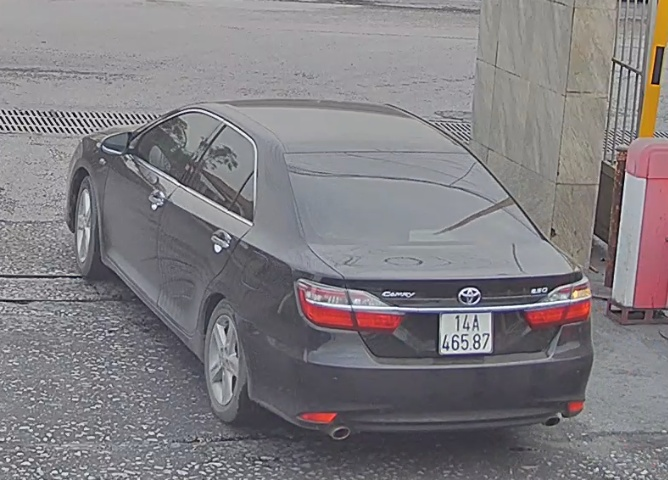vehicle plate: (434, 303, 494, 357)
